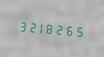eight: (47, 19, 56, 37)
five: (77, 22, 86, 40)
one: (37, 18, 46, 36)
six: (67, 21, 76, 39)
three: (17, 17, 26, 34)
two: (27, 17, 36, 35), (57, 20, 66, 38)
